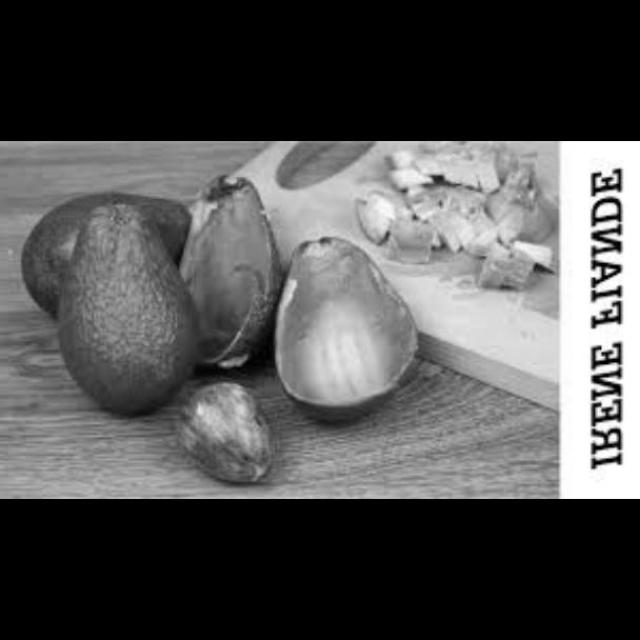avocado: (274, 216, 430, 430), (49, 193, 172, 418), (178, 149, 287, 398), (338, 140, 559, 262), (1, 191, 199, 297)
